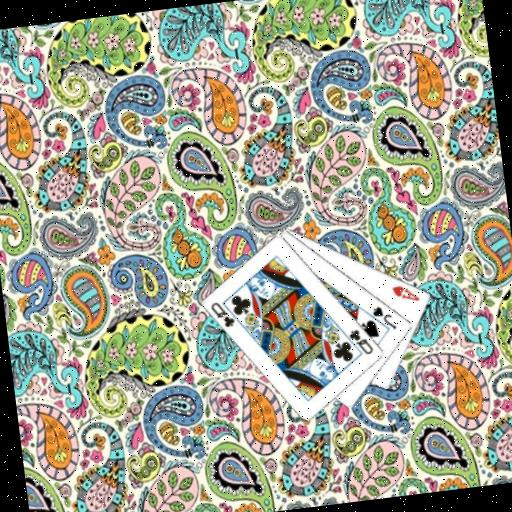AH: (389, 280, 422, 306)
JS: (369, 302, 399, 334)
QC: (345, 324, 376, 359), (207, 297, 238, 332)
